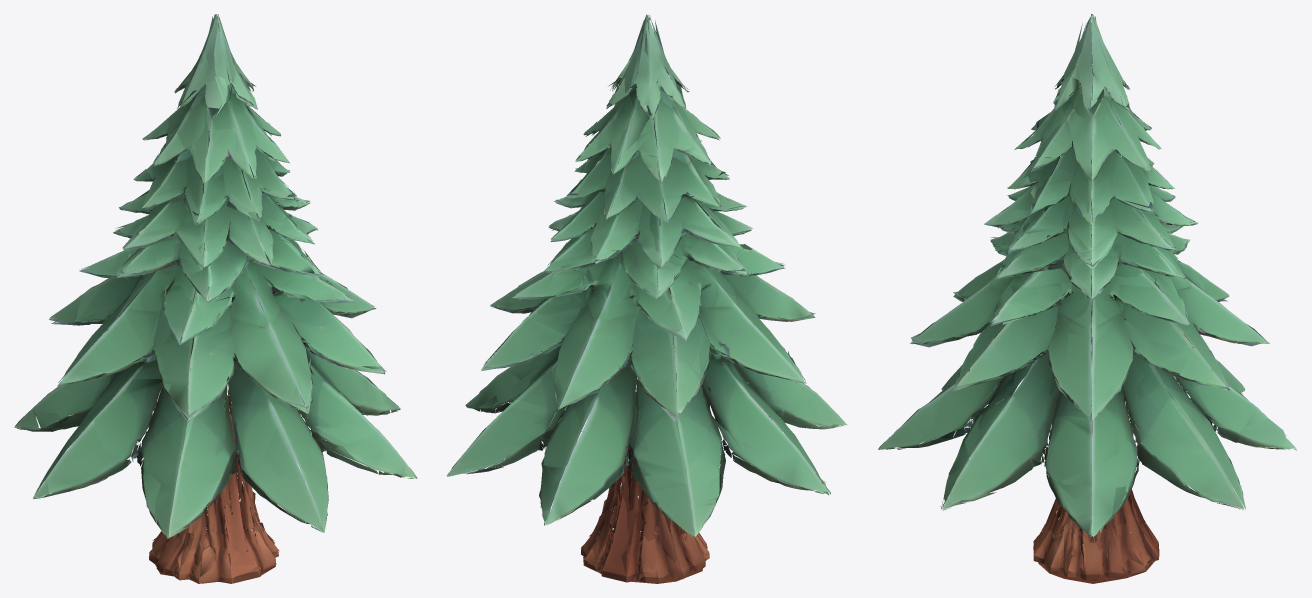
The model's file is pine.glb.
3 views of the same model, side by side, from view 1: azimuth 30°, elevation 25°; view 2: azimuth 150°, elevation 25°; view 3: azimuth 270°, elevation 25° (orthographic).
Parts seen in each view (by area): view 1: PineNear, PineFar; view 2: PineNear, PineFar; view 3: PineNear, PineFar.
Part boxes in pixels (x1,y1,x2,y2): PineNear: (14,14,417,583); PineFar: (15,17,409,581); PineNear: (447,14,847,583); PineFar: (446,17,844,583); PineNear: (878,14,1296,580); PineFar: (879,17,1293,583).
Bounding box in the file's own units: 3.6 × 5.13 × 3.61.
Materials: 1 (1 with a texture image).
